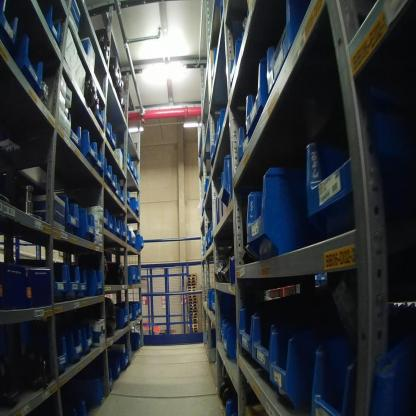pallet: (187, 302, 198, 307), (187, 315, 198, 320), (187, 318, 198, 323), (188, 323, 199, 328), (188, 297, 198, 302), (187, 327, 199, 331), (186, 273, 197, 277), (186, 276, 197, 280), (186, 279, 197, 283), (186, 282, 197, 286), (187, 288, 198, 292), (188, 295, 199, 299), (188, 291, 198, 295), (188, 309, 198, 313), (188, 312, 198, 316), (186, 286, 198, 289), (189, 306, 198, 310), (188, 301, 199, 304), (188, 331, 198, 334)
